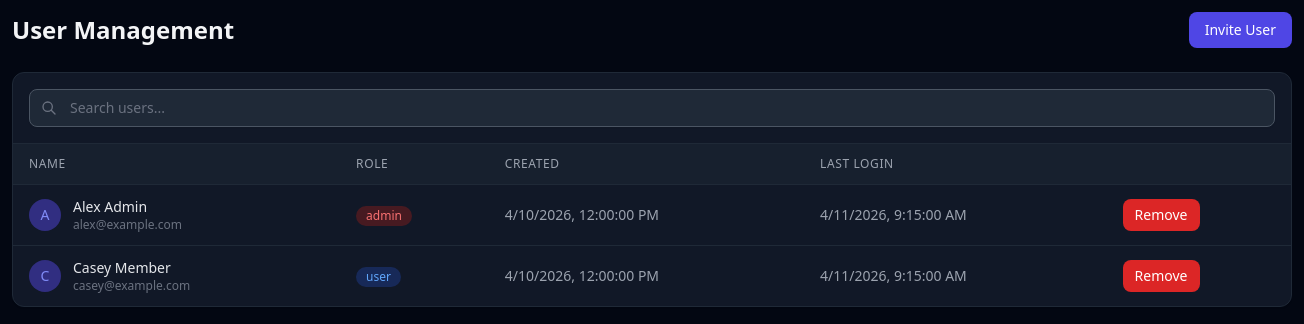
UserManagementPage › updates roles inline and removes rows through the live service layer
Check: the text "Alex Admin" is shown, box [73, 197, 147, 216]
Click the button "admin" at (384,215), box [356, 204, 412, 226]
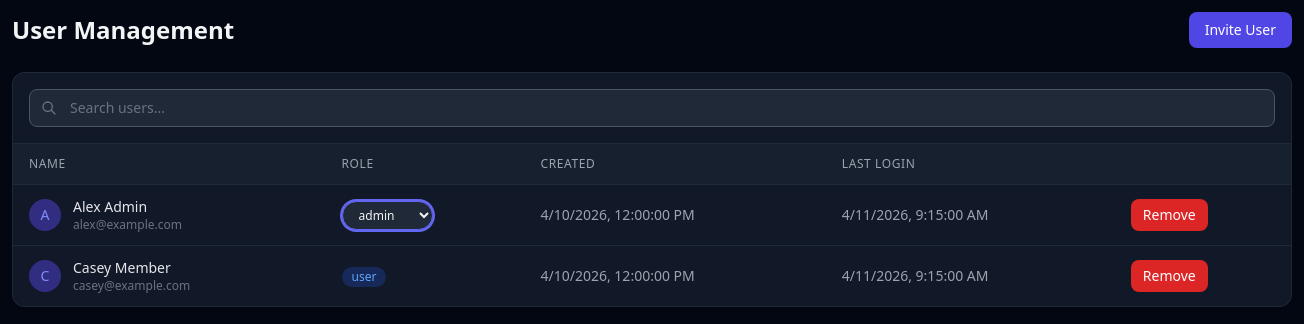
Select "security" in the dropdown at (387,215), box [342, 200, 432, 230]
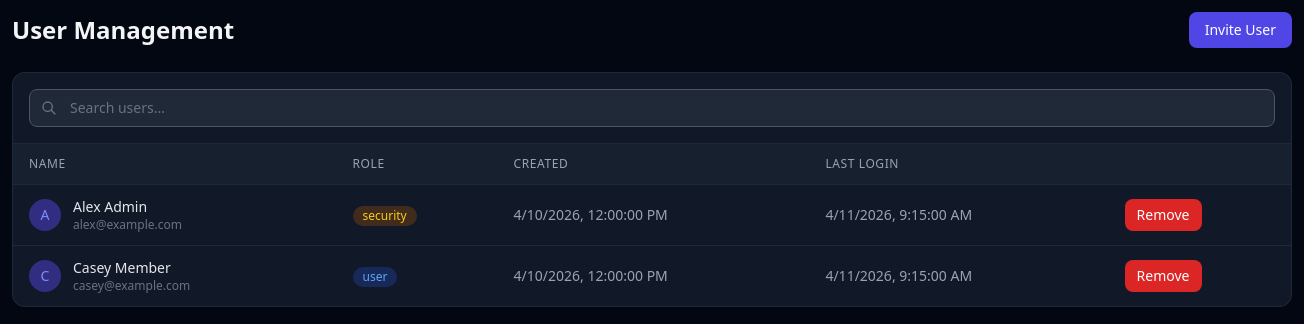
Check: the button "security" is shown, box [352, 204, 417, 226]
Click the button "Remove" in the row of "Alex Admin" at (1163,215), box [1125, 199, 1202, 231]
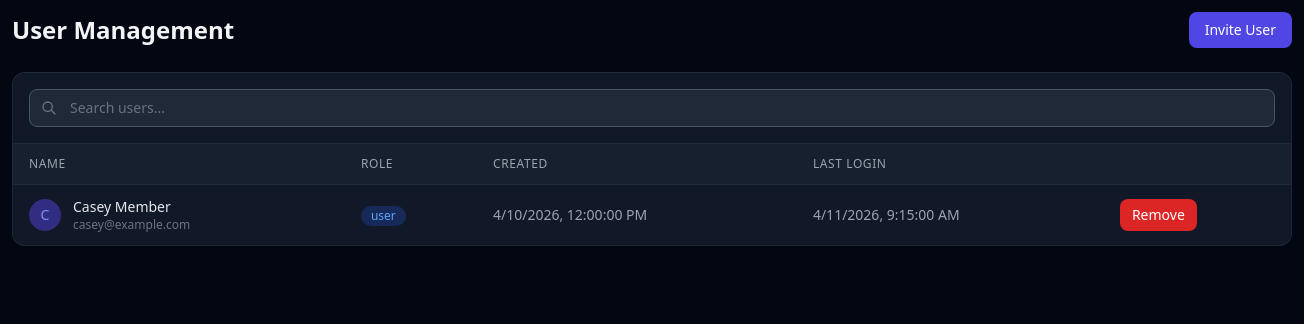
Check: the text "Alex Admin" is gone
